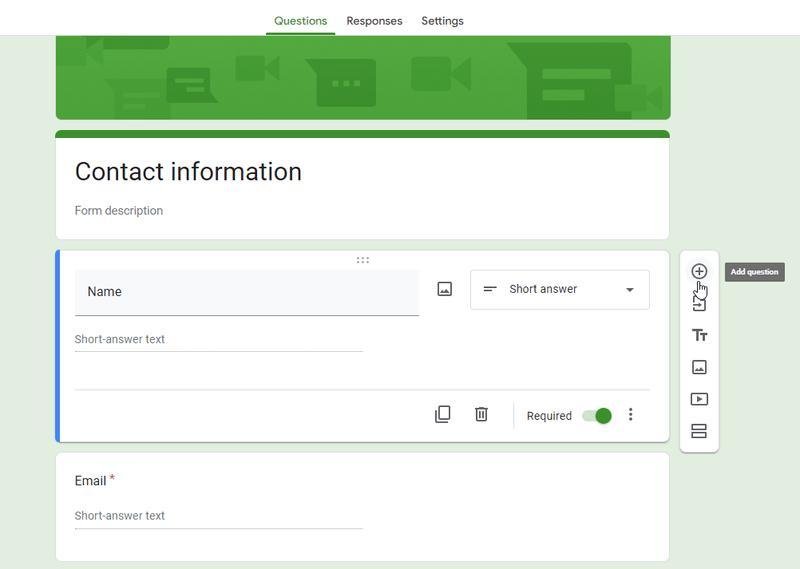button: (724, 262, 787, 284)
dropdown: (471, 272, 651, 311)
icon: (692, 263, 710, 283), (691, 423, 711, 441), (435, 407, 453, 426), (691, 327, 710, 345), (691, 360, 710, 377), (693, 296, 711, 313), (437, 282, 454, 299), (475, 407, 490, 425), (692, 393, 709, 408), (627, 405, 637, 427)
input: (76, 271, 422, 317)
label: (74, 157, 306, 186), (346, 15, 406, 29), (273, 15, 331, 29), (421, 14, 468, 30), (74, 473, 118, 489), (528, 411, 574, 425)
switch: (583, 407, 614, 428)
